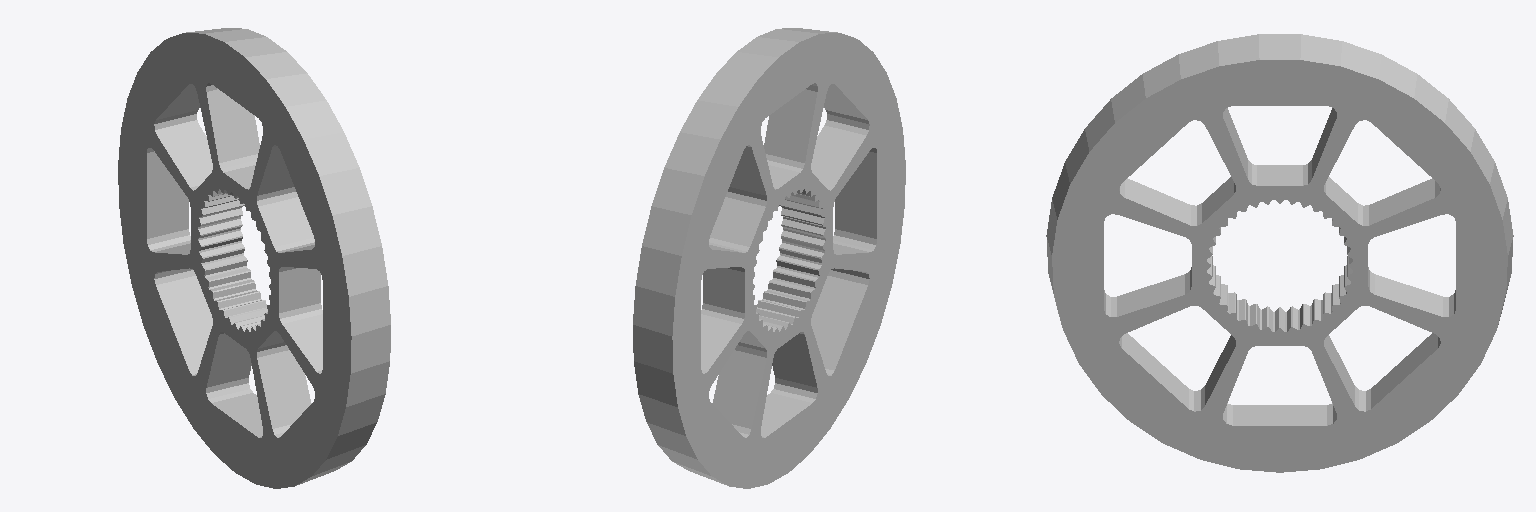
3 views of the same model, side by side, from view 1: azimuth 30°, elevation 25°; view 2: azimuth 150°, elevation 25°; view 3: azimuth 270°, elevation 25° (orthographic).
Parts seen in each view (by area): view 1: Шайба_Компрессоров_№02№03; view 2: Шайба_Компрессоров_№02№03; view 3: Шайба_Компрессоров_№02№03.
Part boxes in pixels (x1,y1,x2,y2): Шайба_Компрессоров_№02№03: (118, 28, 390, 488); Шайба_Компрессоров_№02№03: (633, 28, 905, 488); Шайба_Компрессоров_№02№03: (1046, 34, 1513, 472).
Bounding box in the file's own units: 5 × 47.65 × 47.7.